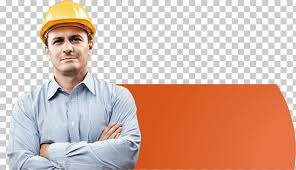Person_wearing_helmet: (38, 0, 100, 50)
